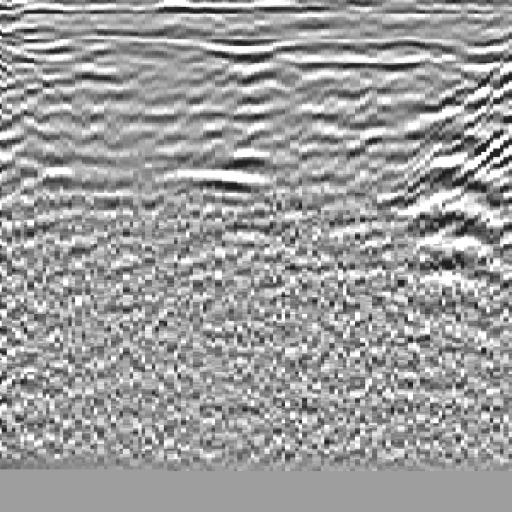metalic: (138, 33, 324, 263)
nonmetalic: (377, 41, 512, 269)
